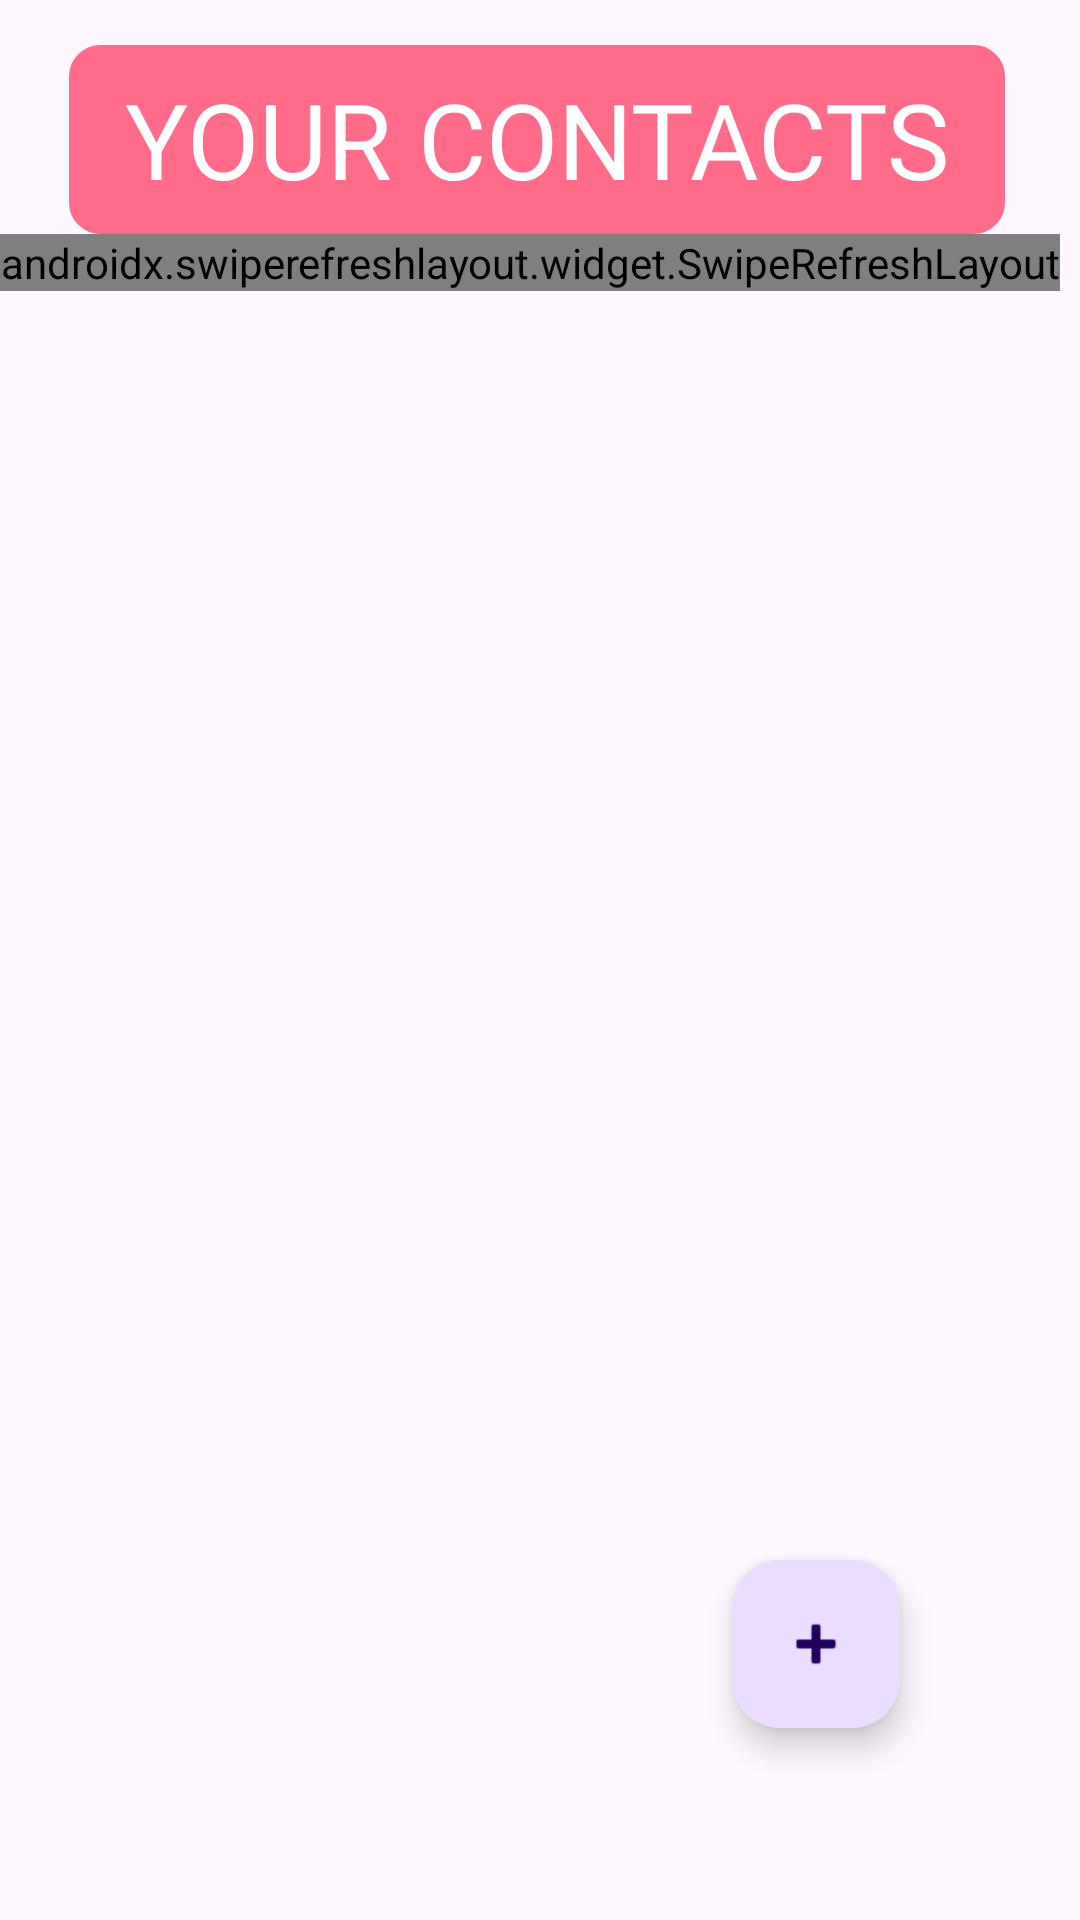

Point at icon controls on the screen. Image size 1080 × 1920, points as [x,y].
add: [816,1644]
